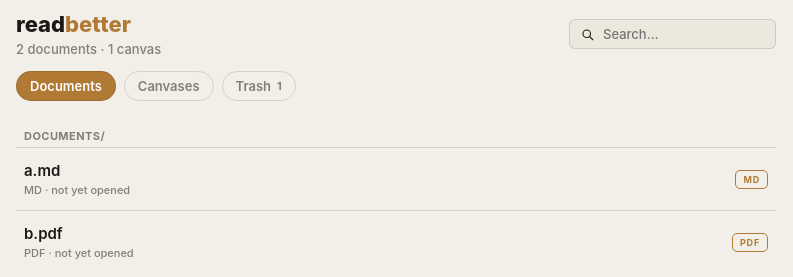
Test case: LibraryCockpit › filters documents by the search query
Type "a.md" into the field named "search documents and canvases".
click(683, 34); type("a.md")  # box [601, 25, 765, 43]
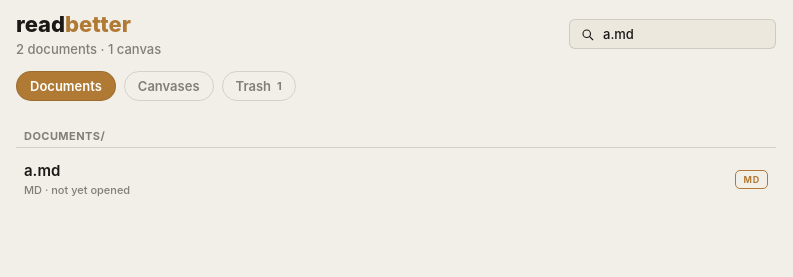
Expected: the text "a.md" is shown, [24, 161, 60, 180]
Result: the button "b.pdf" is gone
